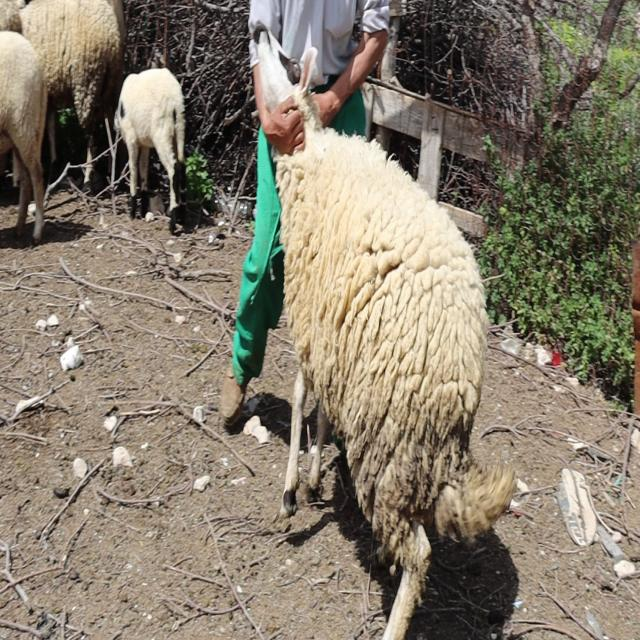Score_3: (251, 30, 516, 639)
